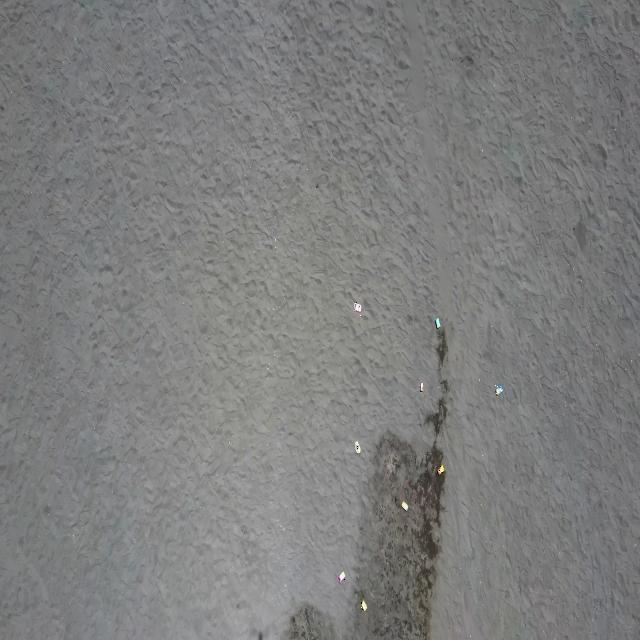retort-pouch: (436, 462, 446, 478), (400, 499, 409, 513), (354, 301, 362, 316), (495, 384, 504, 397), (354, 440, 361, 455), (434, 317, 442, 330), (361, 599, 368, 612), (338, 570, 345, 582), (419, 381, 425, 394)
